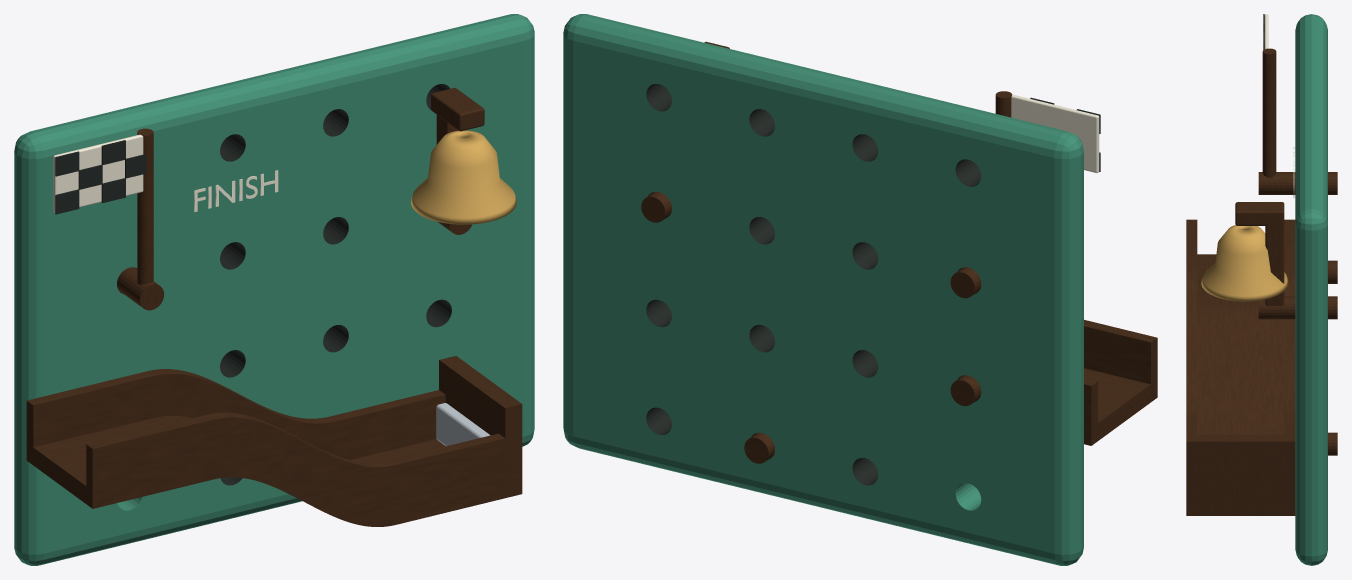
The model's file is goal.glb.
3 renders of one model, left to right at view 1: azimuth 30°, elevation 25°; view 2: azimuth 150°, elevation 25°; view 3: azimuth 270°, elevation 25°, orthographic. The views are drawn at different scales.
Visible parts, largest first — view 1: Goal_SmallPegboard, Goal_Rail, Goal_Bell, Goal_Backstop, Goal_FlagPole, Goal_Flag, Goal_BellWoodMount, Goal_SoftBumper, Goal_Mark; view 2: Goal_SmallPegboard, Goal_Rail, Goal_Flag, Goal_FlagPole, Goal_BellWoodMount; view 3: Goal_SmallPegboard, Goal_Rail, Goal_Backstop, Goal_Bell, Goal_BellWoodMount, Goal_FlagPole.
Boxes of the visible parts, box(x1,y1,x2,y2) form: Goal_SmallPegboard: box(14, 14, 534, 565); Goal_Rail: box(26, 369, 505, 526); Goal_Bell: box(411, 130, 516, 224); Goal_Backstop: box(439, 356, 522, 497); Goal_FlagPole: box(117, 128, 164, 310); Goal_Flag: box(53, 134, 143, 212); Goal_BellWoodMount: box(431, 87, 484, 234); Goal_SoftBumper: box(436, 403, 490, 446); Goal_Mark: box(194, 170, 278, 211); Goal_SmallPegboard: box(563, 14, 1083, 565); Goal_Rail: box(744, 320, 1157, 463); Goal_Flag: box(1011, 94, 1099, 172); Goal_FlagPole: box(950, 91, 1012, 298); Goal_BellWoodMount: box(641, 41, 729, 222); Goal_SmallPegboard: box(1295, 14, 1327, 565); Goal_Rail: box(1186, 219, 1337, 455); Goal_Backstop: box(1186, 435, 1295, 515); Goal_Bell: box(1201, 225, 1288, 301); Goal_BellWoodMount: box(1235, 202, 1337, 319); Goal_FlagPole: box(1258, 48, 1337, 194).
Bounding box in the file's own units: 0.36 × 0.288 × 0.111.
Materials: 9 (4 with a texture image).
